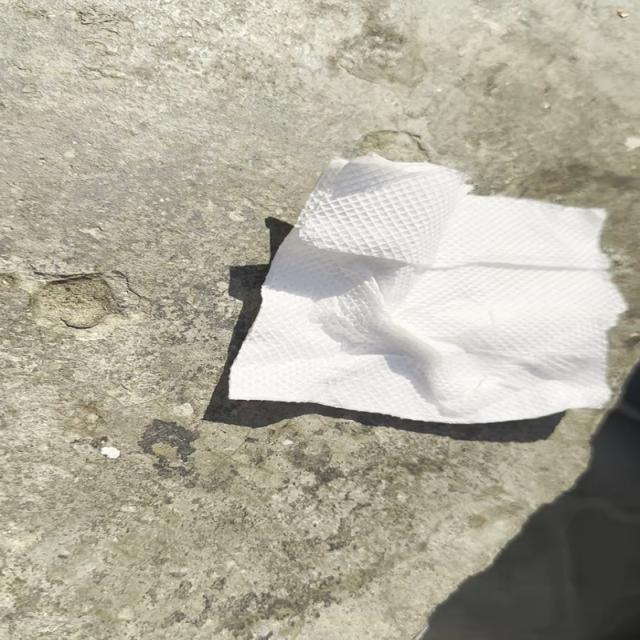tissue: (215, 147, 628, 415)
